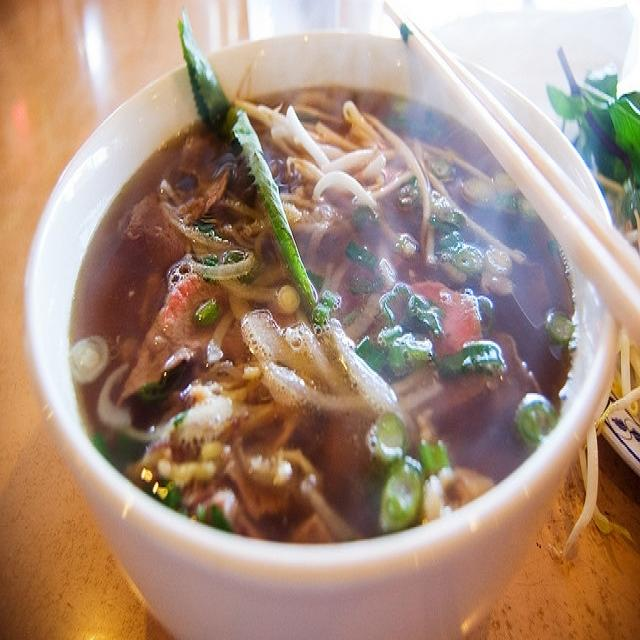面条主食: (30, 36, 618, 588)
